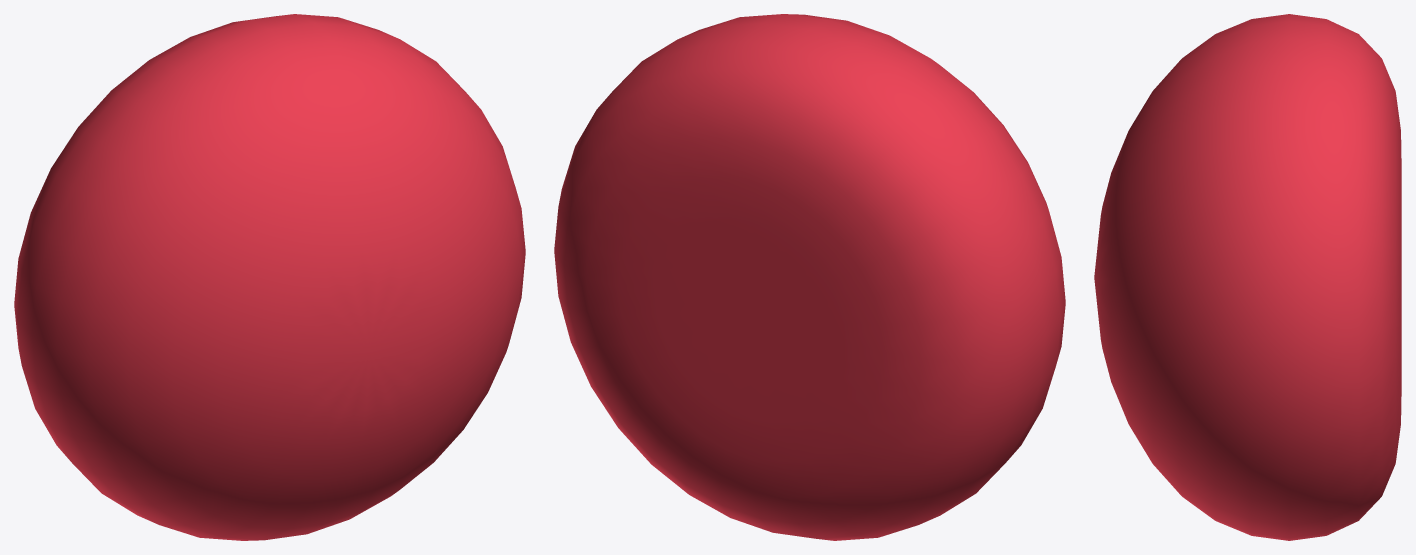
Rendered from RedSlime.fbx.
3 views of the same model, side by side, from view 1: azimuth 30°, elevation 25°; view 2: azimuth 150°, elevation 25°; view 3: azimuth 270°, elevation 25° (orthographic). The views are drawn at different scales.
Visible parts, largest first — view 1: Sphere; view 2: Sphere; view 3: Sphere.
Part boxes in pixels (left/top/right/bottom): Sphere: left=14, top=14, right=525, bottom=540; Sphere: left=554, top=14, right=1065, bottom=540; Sphere: left=1094, top=14, right=1401, bottom=540.
Size of the model in its own units: 229 by 229 by 134.
